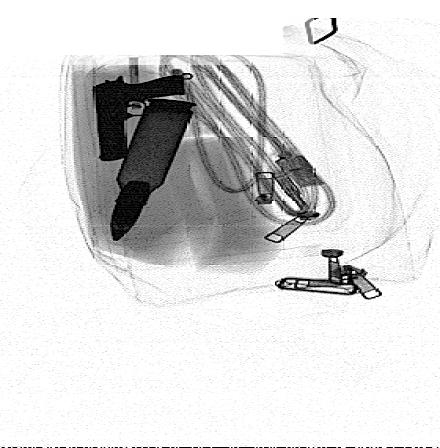Bullet: (110, 100, 196, 243)
Gun: (89, 73, 188, 161)
